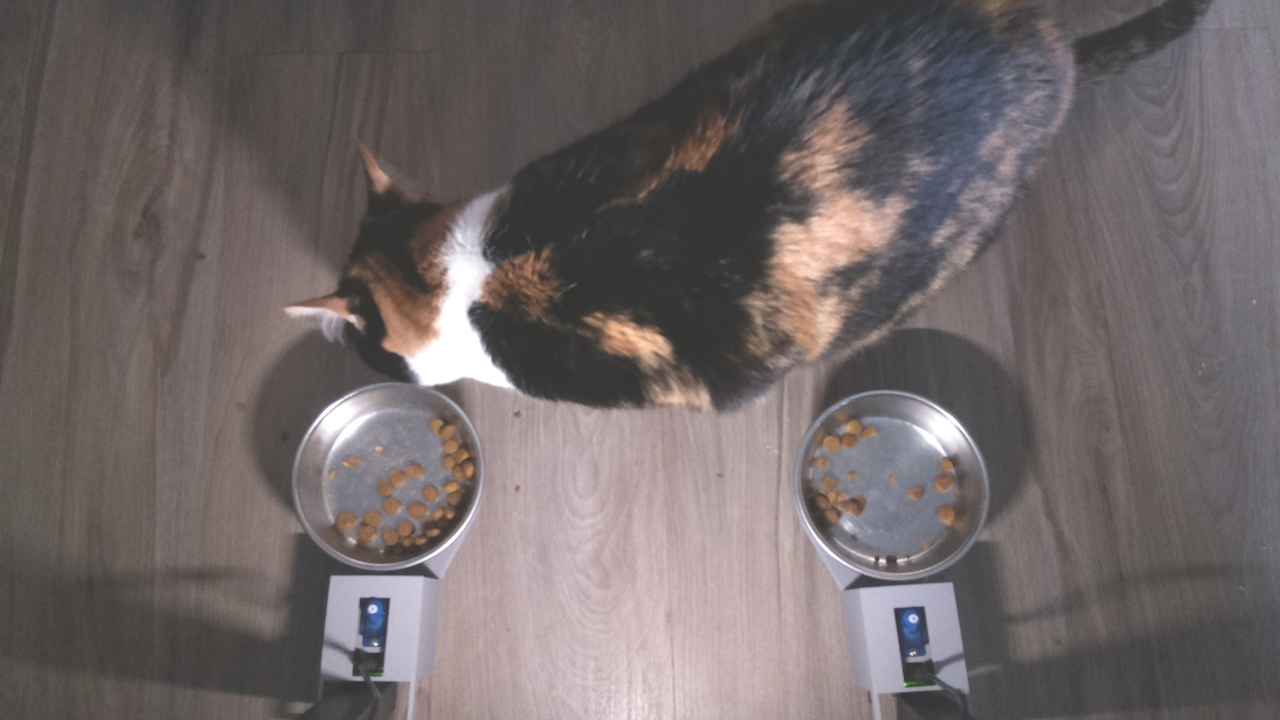bella: (269, 113, 568, 387)
open_bowl: (286, 376, 487, 575), (793, 385, 991, 584)
